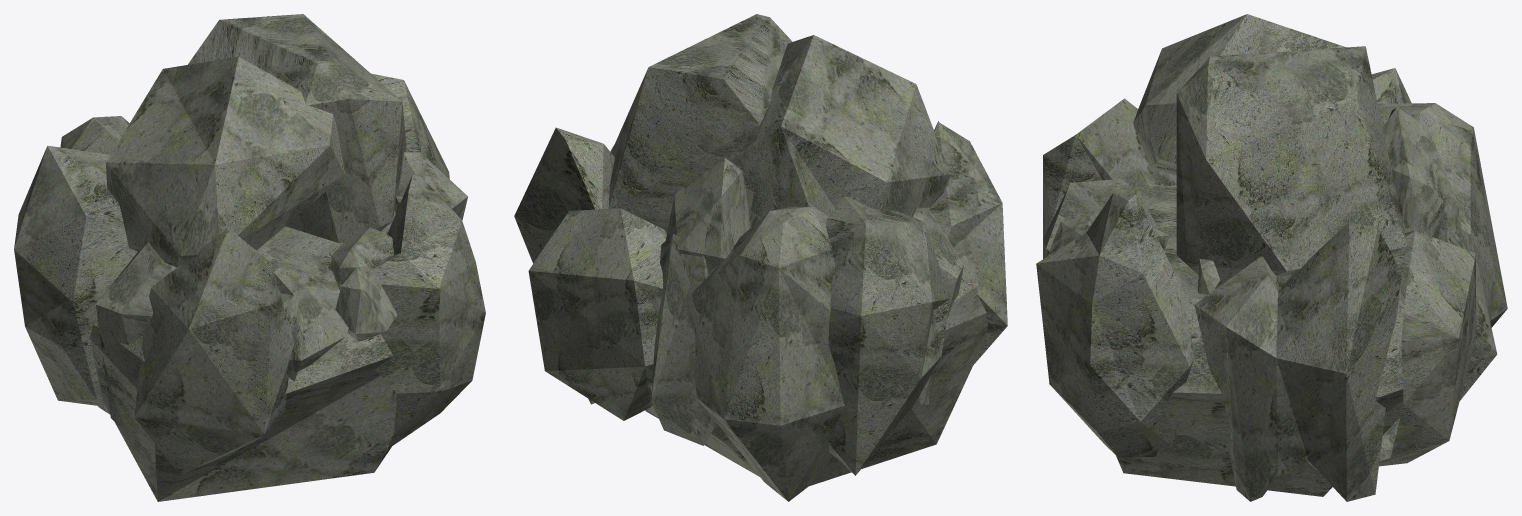
The model's file is poi_all_lair_cave_large_l2.fbx.
3 renders of one model, left to right at view 1: azimuth 30°, elevation 25°; view 2: azimuth 150°, elevation 25°; view 3: azimuth 270°, elevation 25°, orthographic. The views are drawn at different scales.
Visible parts, largest first — view 1: mesh_node; view 2: mesh_node; view 3: mesh_node.
Part boxes in pixels (left/top/right/bottom): mesh_node: left=14, top=14, right=485, bottom=501; mesh_node: left=514, top=14, right=1007, bottom=501; mesh_node: left=1036, top=14, right=1507, bottom=501.
Bounding box in the file's own units: 28.16 × 25.4 × 25.14.
